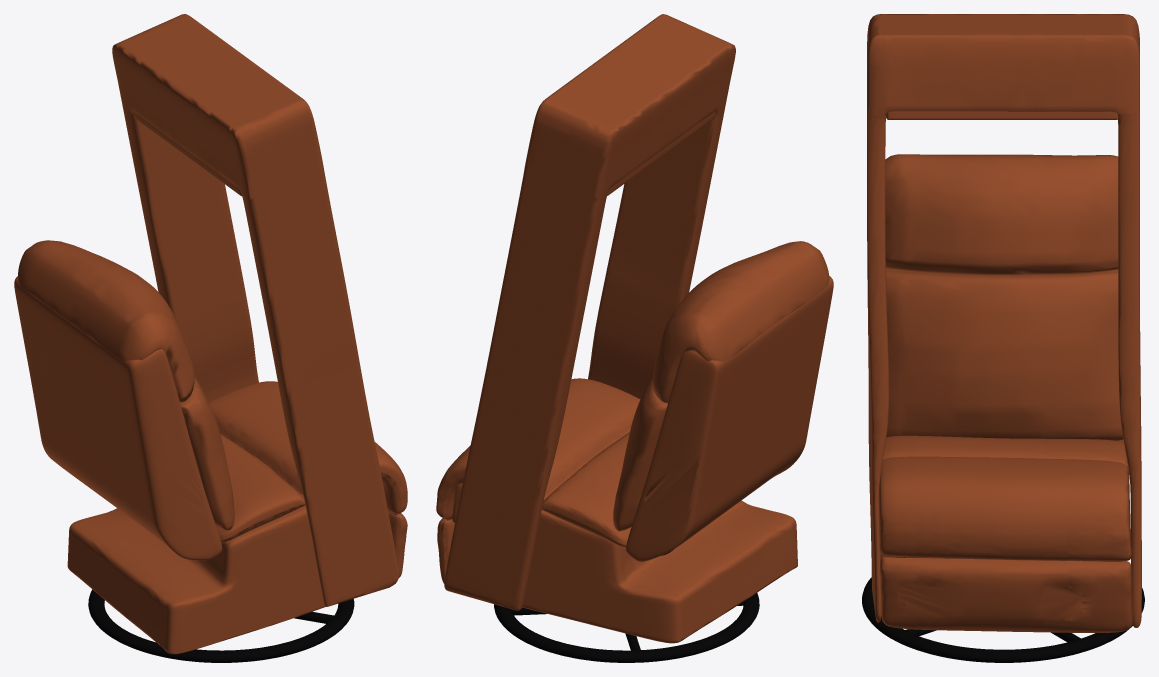
The model's file is recliner_chair.glb.
The picture shows the model from 3 angles, left to right: view 1: azimuth 30°, elevation 25°; view 2: azimuth 150°, elevation 25°; view 3: azimuth 270°, elevation 25°; orthographic projection. The views are drawn at different scales.
Visible parts, largest first — view 1: pCube117; view 2: pCube117; view 3: pCube117.
Boxes of the visible parts, x1,y1,x2,y2 form: pCube117: (14, 14, 407, 662); pCube117: (436, 14, 833, 662); pCube117: (862, 14, 1144, 662).
Bounding box in the file's own units: 0.0735 × 0.1323 × 0.0583.
10 materials, 1 textured.
